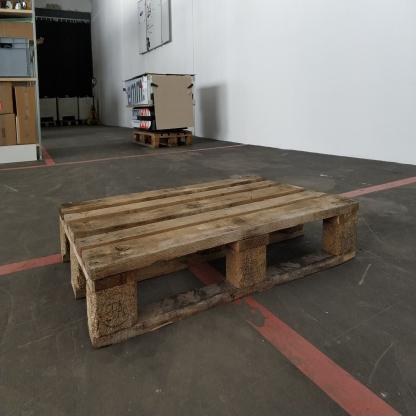BoxFace: (57, 167, 364, 357), (128, 127, 193, 153)
